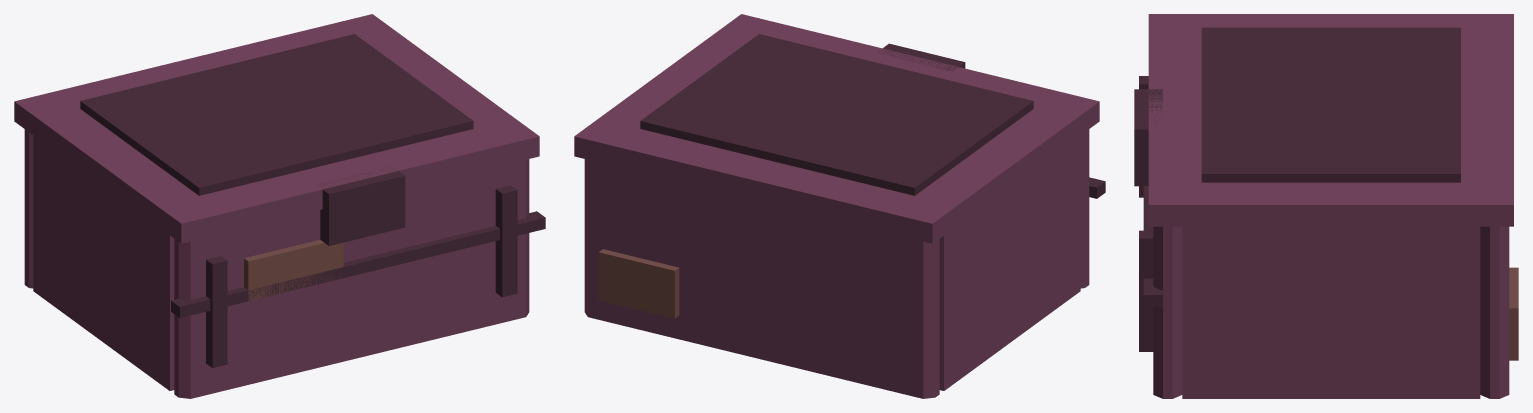
Rendered from ancient_spacer_component_box_closed.obj.
The picture shows the model from 3 angles, left to right: view 1: azimuth 30°, elevation 25°; view 2: azimuth 150°, elevation 25°; view 3: azimuth 270°, elevation 25°; orthographic projection. The views are drawn at different scales.
Visible parts, largest first — view 1: ancient_spacer_component_box_closed; view 2: ancient_spacer_component_box_closed; view 3: ancient_spacer_component_box_closed.
Boxes of the visible parts, box(x1,y1,x2,y2) form: ancient_spacer_component_box_closed: box(14, 14, 545, 398); ancient_spacer_component_box_closed: box(574, 14, 1105, 398); ancient_spacer_component_box_closed: box(1134, 14, 1518, 398).
Bounding box in the file's own units: 0.96 × 0.47 × 0.8.
